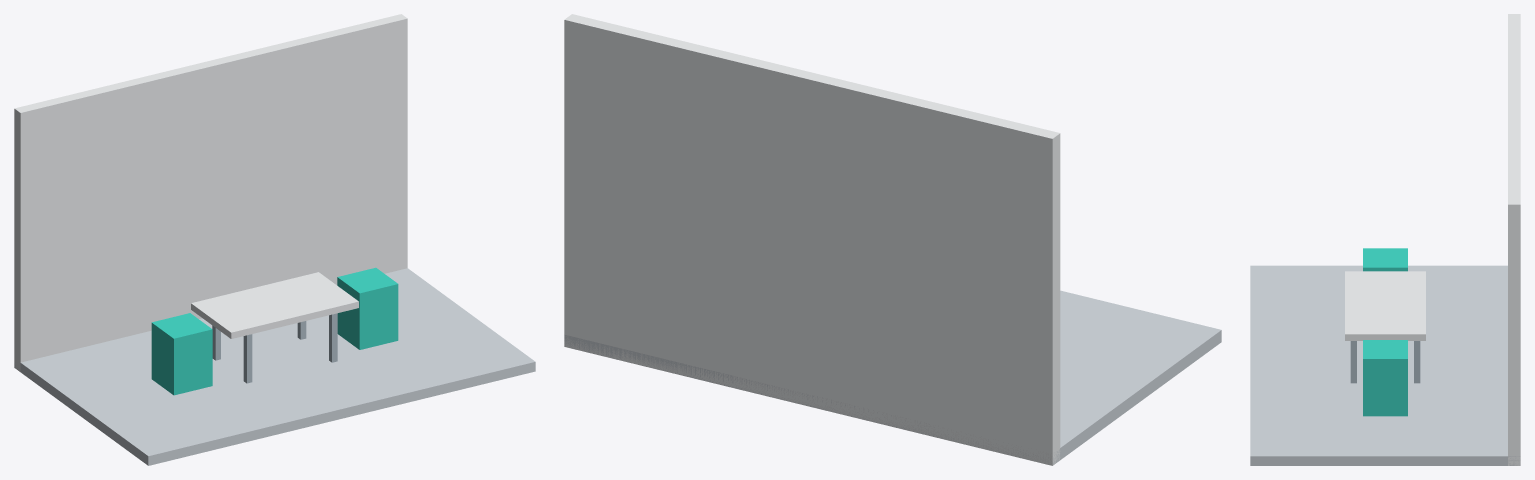
3 renders of one model, left to right at view 1: azimuth 30°, elevation 25°; view 2: azimuth 150°, elevation 25°; view 3: azimuth 270°, elevation 25°, orthographic. The views are drawn at different scales.
Parts seen in each view (by area): view 1: Exhibition Booth Concept; view 2: Exhibition Booth Concept; view 3: Exhibition Booth Concept.
Part boxes in pixels (x1=…): Exhibition Booth Concept: x1=14, y1=14, x2=535, y2=465; Exhibition Booth Concept: x1=564, y1=14, x2=1221, y2=465; Exhibition Booth Concept: x1=1250, y1=14, x2=1520, y2=465.
Size of the model in its own units: 5 by 3.2 by 3.
